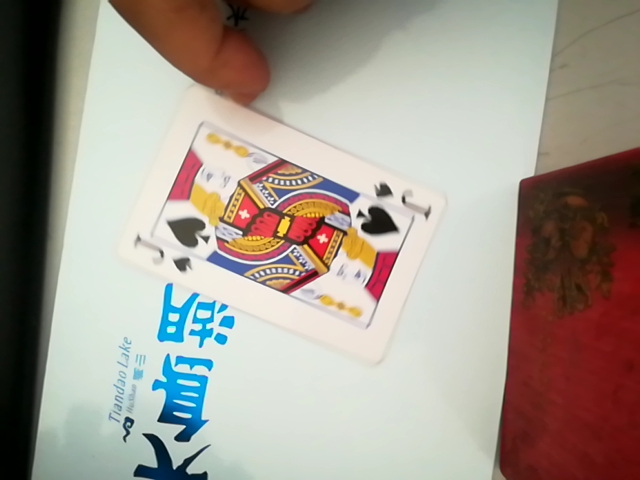ht j: (129, 93, 432, 350)
